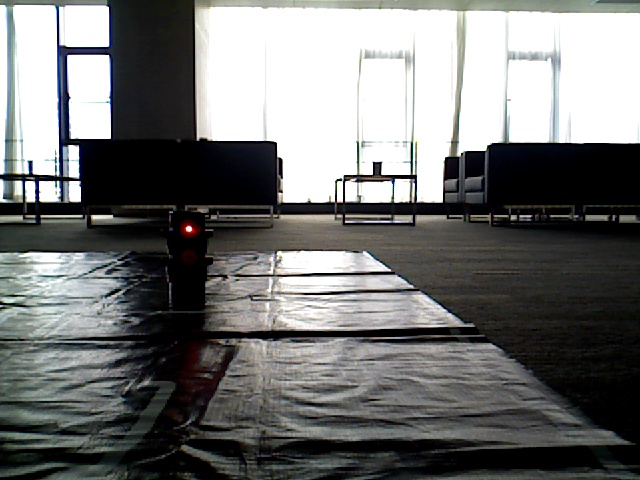red: (168, 212, 201, 299)
